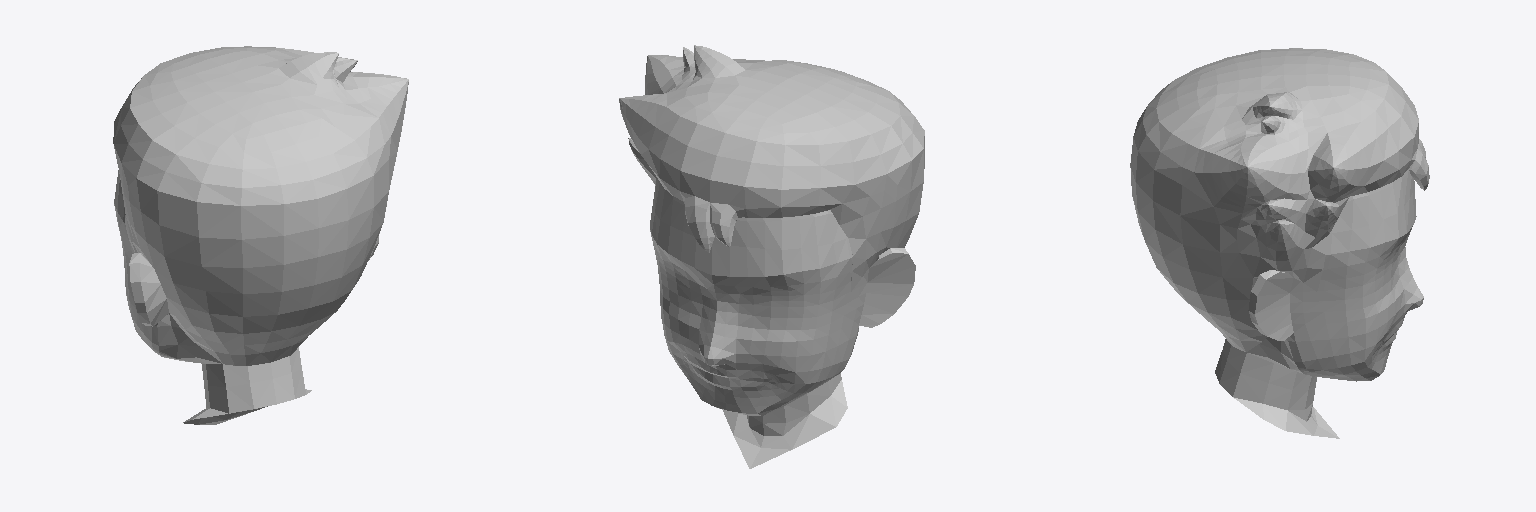
The model's file is cabezaOak.obj.
The picture shows the model from 3 angles: view 1: azimuth 30°, elevation 25°; view 2: azimuth 150°, elevation 25°; view 3: azimuth 270°, elevation 25°; orthographic projection.
Parts seen in each view (by area): view 1: Cabeza_hair.001, Head, Neck, Spine3, Cabeza_skin.001; view 2: Cabeza_hair.001, Cabeza_eye.001, Head, Spine3, Cabeza_skin.001, LSideLip, LowerLip, Neck, RSideLip; view 3: Cabeza_hair.001, Head, Cabeza_eye.001, Spine3, Neck.
Part boxes in pixels (x1,y1,x2,y2): Cabeza_hair.001: (113,46,408,365); Head: (118,214,379,386); Neck: (202,347,301,408); Spine3: (183,371,311,424); Cabeza_skin.001: (118,180,145,342); Cabeza_hair.001: (619,45,924,291); Cabeza_eye.001: (650,179,836,341); Head: (657,178,915,415); Spine3: (723,373,847,468); Cabeza_skin.001: (726,210,860,415); LSideLip: (750,357,804,396); LowerLip: (705,372,742,396); Neck: (772,378,833,422); RSideLip: (667,330,697,379); Cabeza_hair.001: (1130,48,1429,351); Head: (1223,170,1423,388); Cabeza_eye.001: (1345,171,1416,321); Spine3: (1215,352,1339,438); Neck: (1219,343,1316,409).
Size of the model in its own units: 37.81 by 49.88 by 35.86.